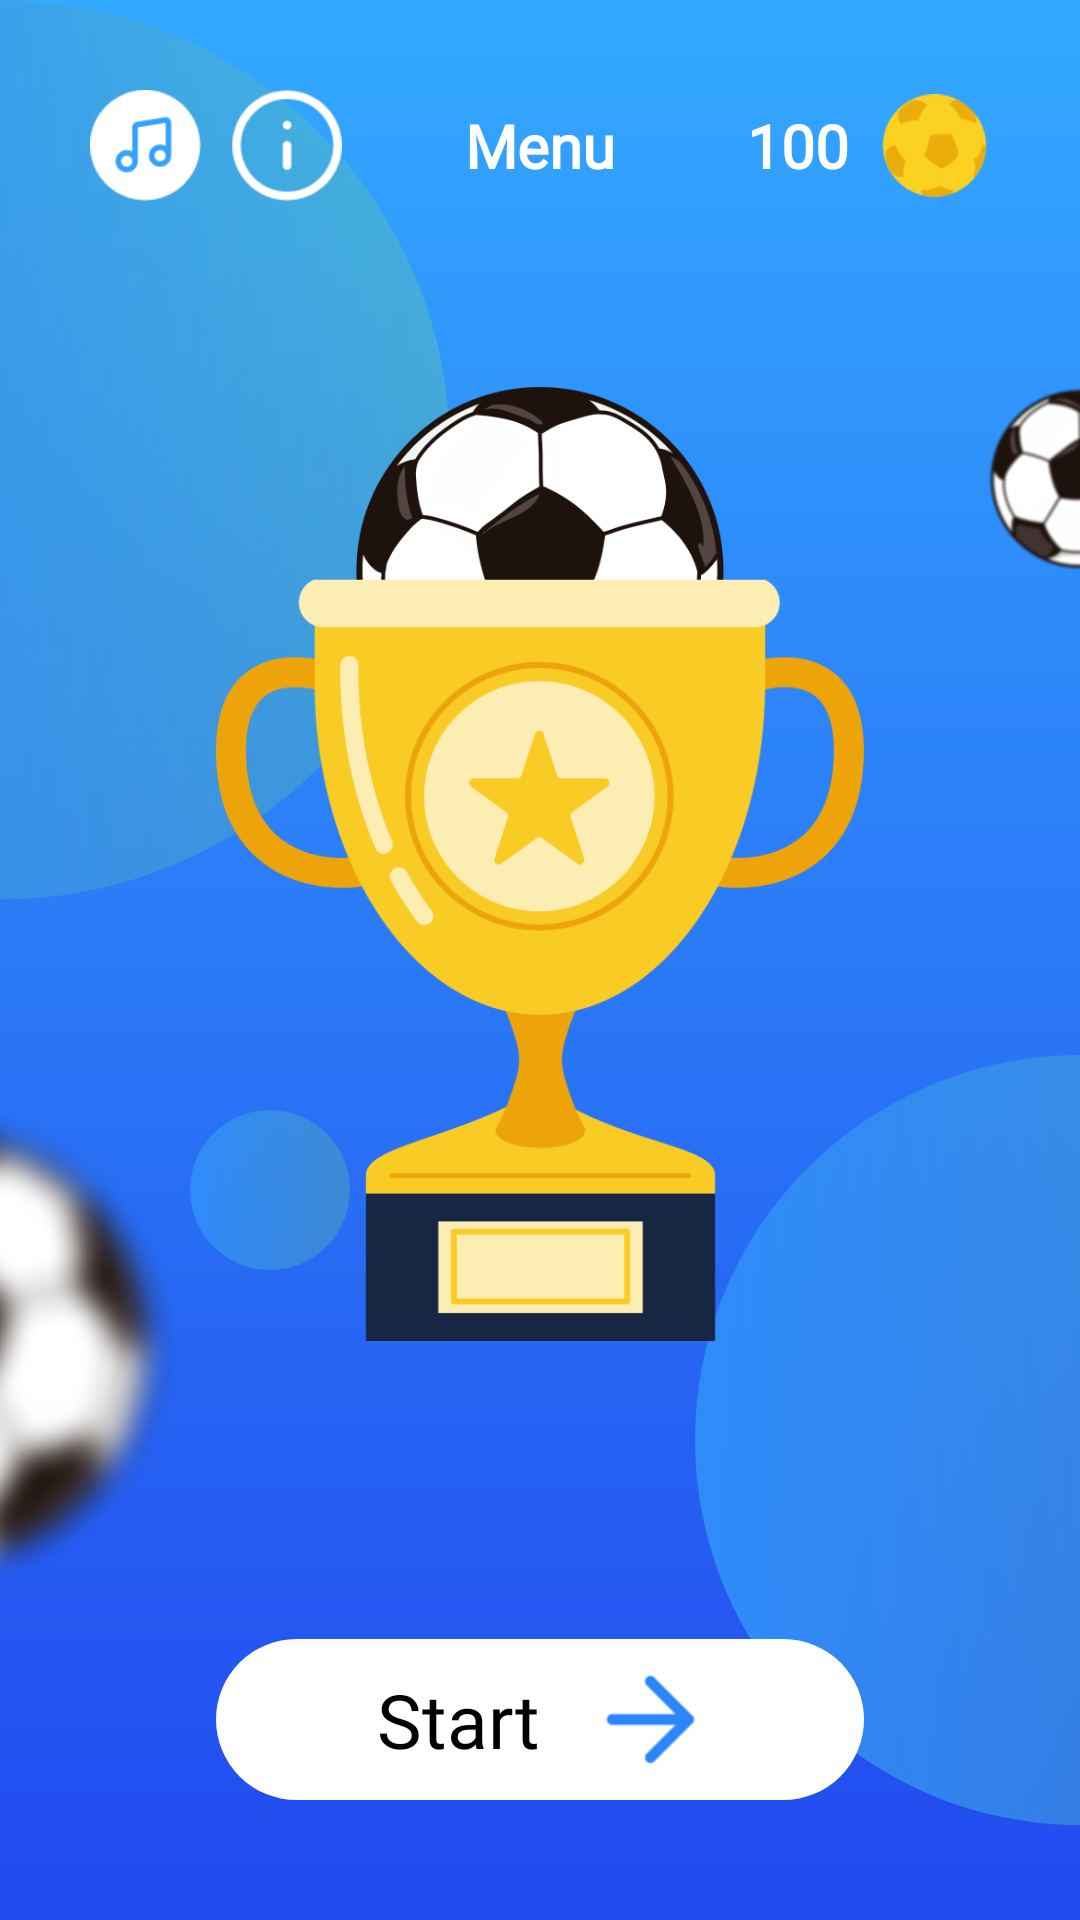

Where to tap for icons on this 1080 × 1920 app screen, as point (x, y):
arrow right: point (650, 1719)
ball gold: point (934, 145)
info: point (287, 145)
